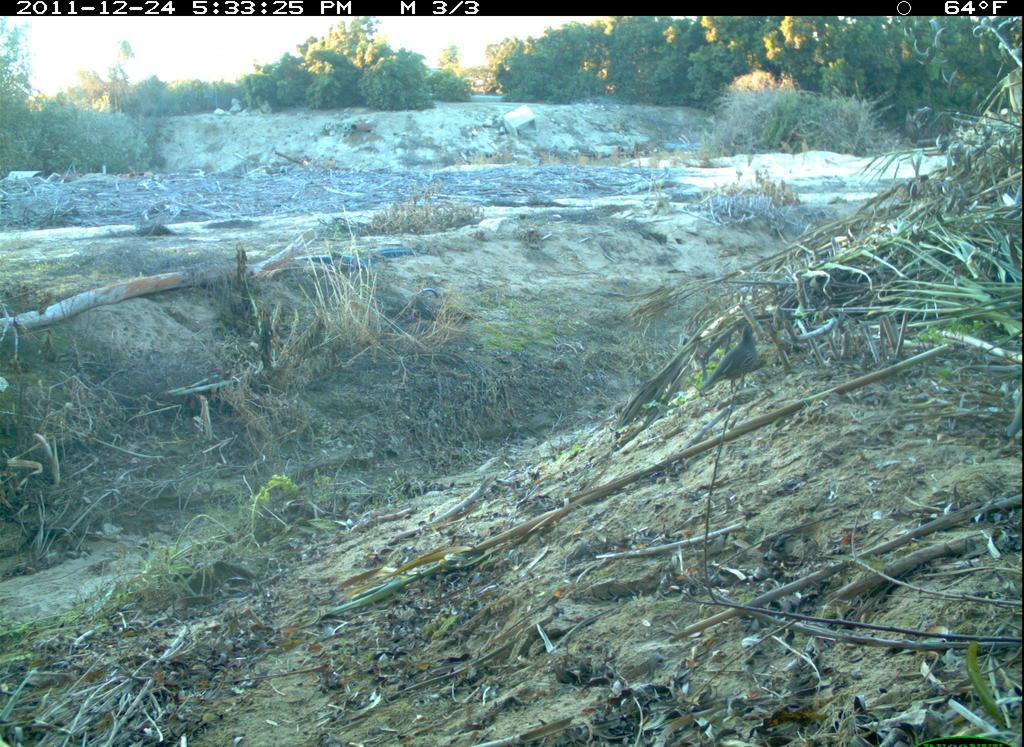bird: (696, 321, 780, 410)
